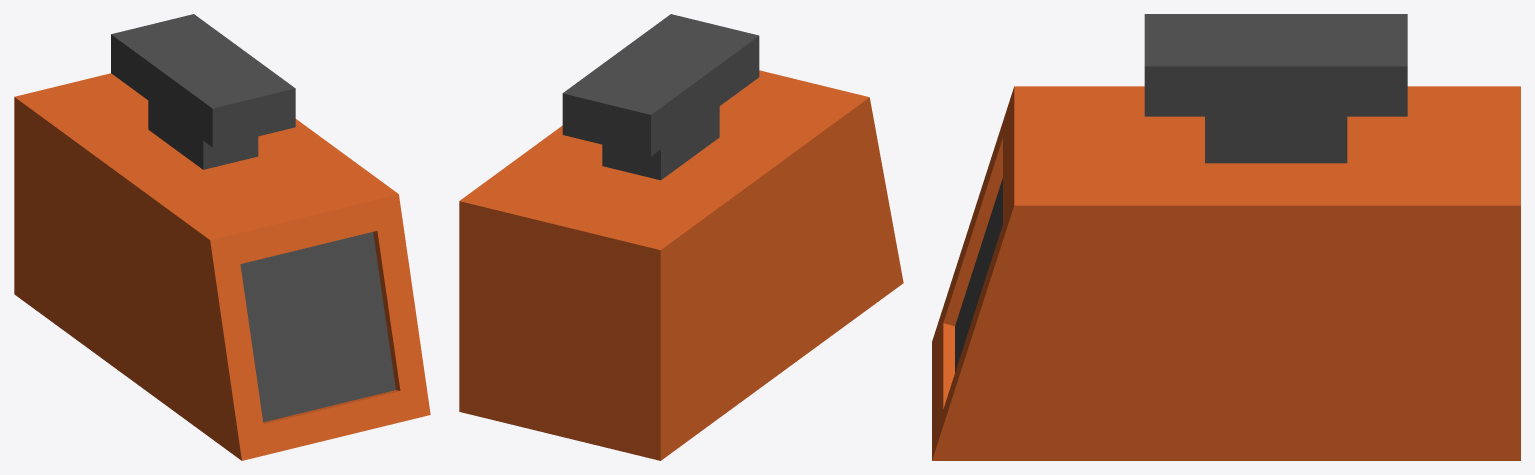
3 renders of one model, left to right at view 1: azimuth 30°, elevation 25°; view 2: azimuth 150°, elevation 25°; view 3: azimuth 270°, elevation 25°, orthographic. The views are drawn at different scales.
Visible parts, largest first — view 1: G-25; view 2: G-25; view 3: G-25.
Boxes of the visible parts, x1,y1,x2,y2 form: G-25: (14,14,430,460); G-25: (459,14,903,460); G-25: (932,14,1520,460).
Bounding box in the file's own units: 71.72 × 101 × 150.
